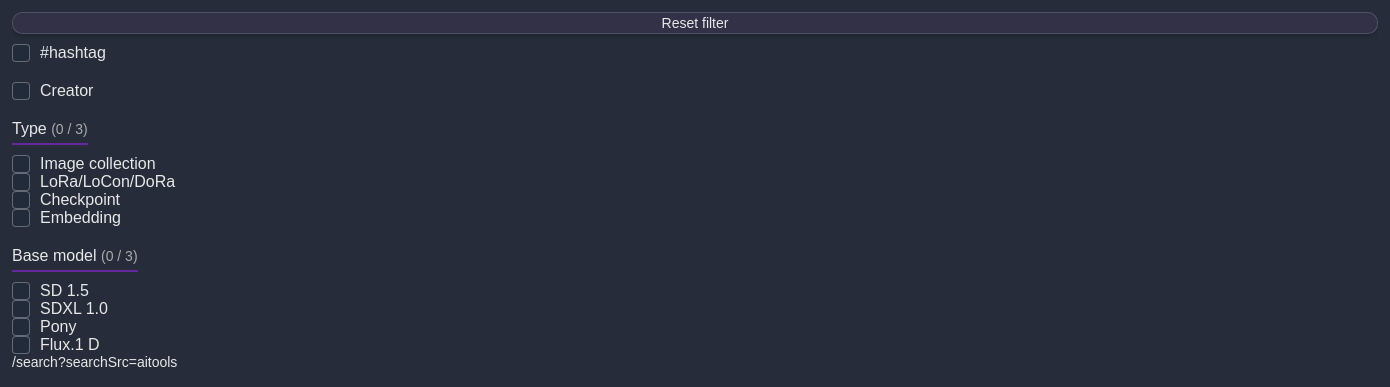
Test case: applies and releases cross-group selection limits while synchronizing base models
Click the checkbox labelled "Checkpoint" at (21, 200), box [12,191,30,209]
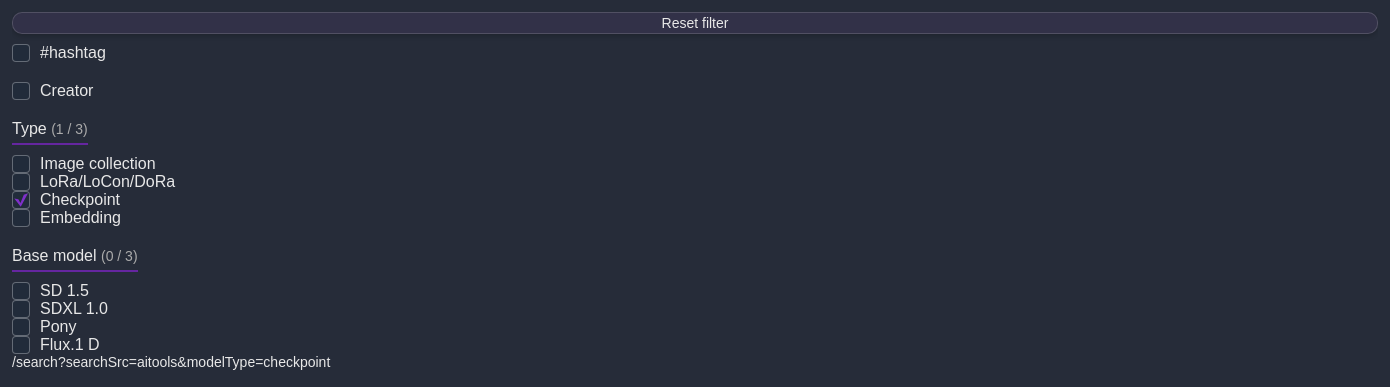
Click the checkbox labelled "LoRa/LoCon/DoRa" at (21, 182), box [12,173,30,191]
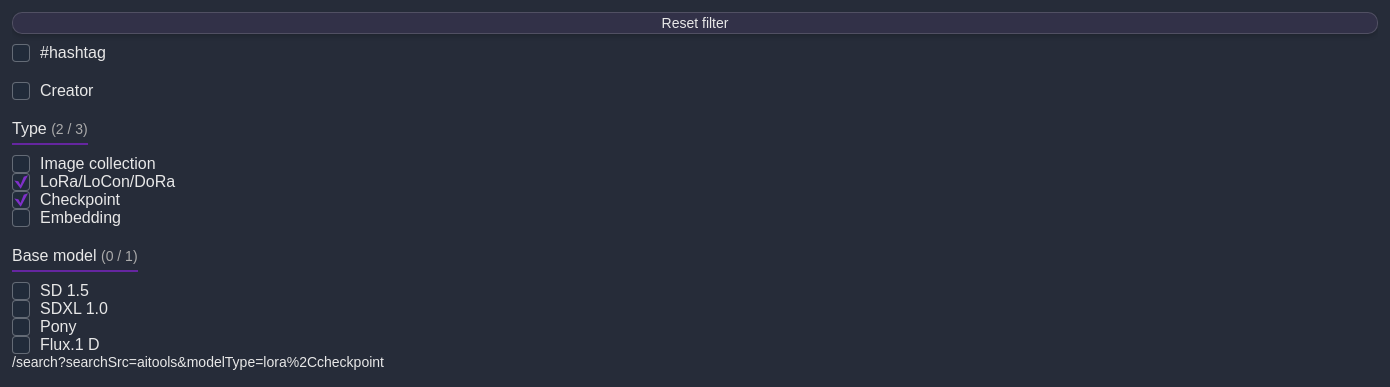
Click the checkbox labelled "SD 1.5" at (21, 291), box [12,282,30,300]
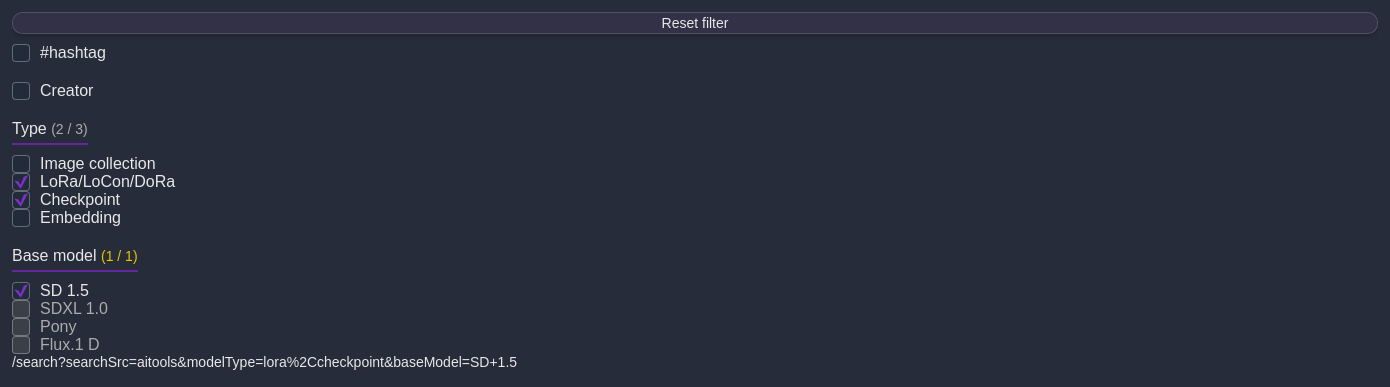
Expected: the label "SD 1.5" is shown, [12,282,89,300]
Now the checkbox labelled "SDXL 1.0" is disabled, box [12,300,30,318]
Click the checkbox labelled "LoRa/LoCon/DoRa" at (21, 182), box [12,173,30,191]
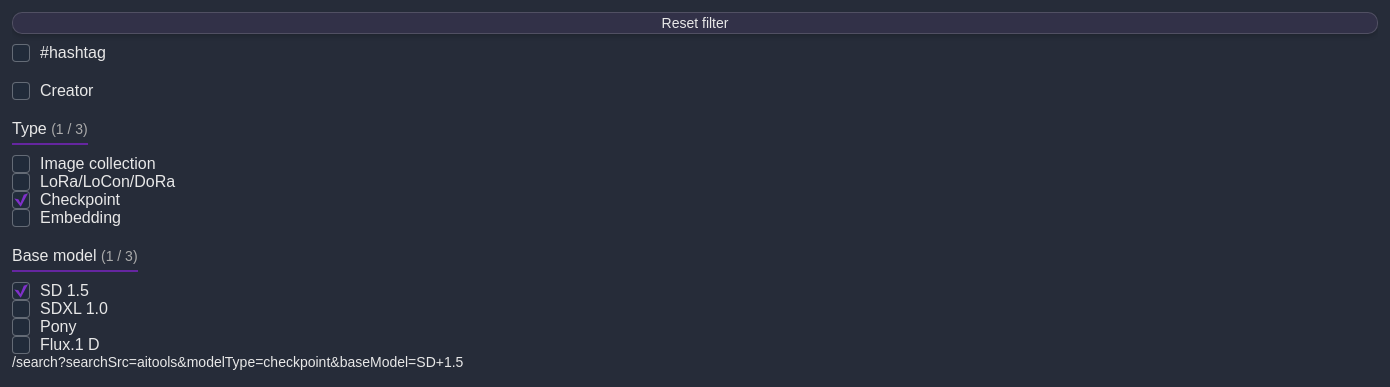
Now the checkbox labelled "SDXL 1.0" is enabled
Click the checkbox labelled "SDXL 1.0" at (21, 309), box [12,300,30,318]
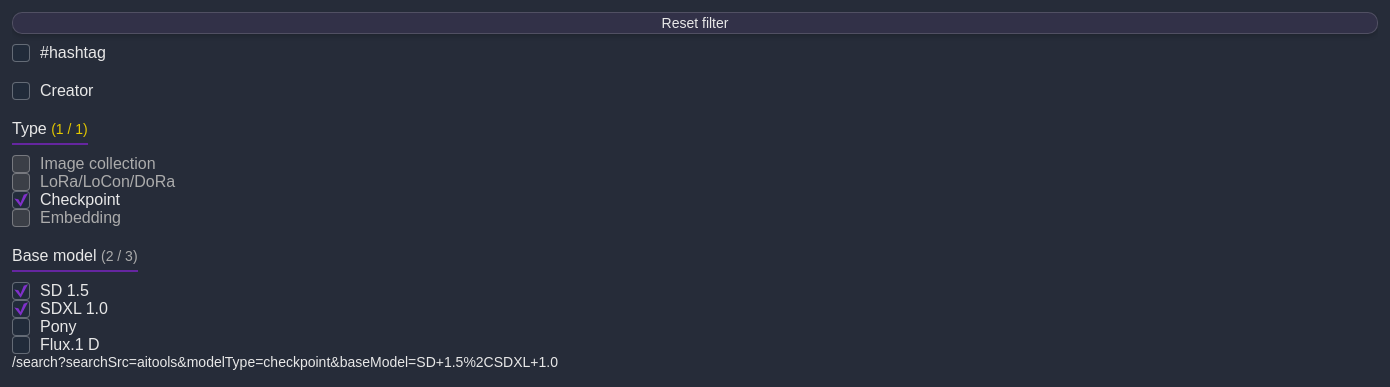
Expected: the checkbox labelled "Checkpoint" is enabled, [12,191,30,209]
Now the checkbox labelled "LoRa/LoCon/DoRa" is disabled, box [12,173,30,191]
Click the checkbox labelled "SDXL 1.0" at (21, 309), box [12,300,30,318]
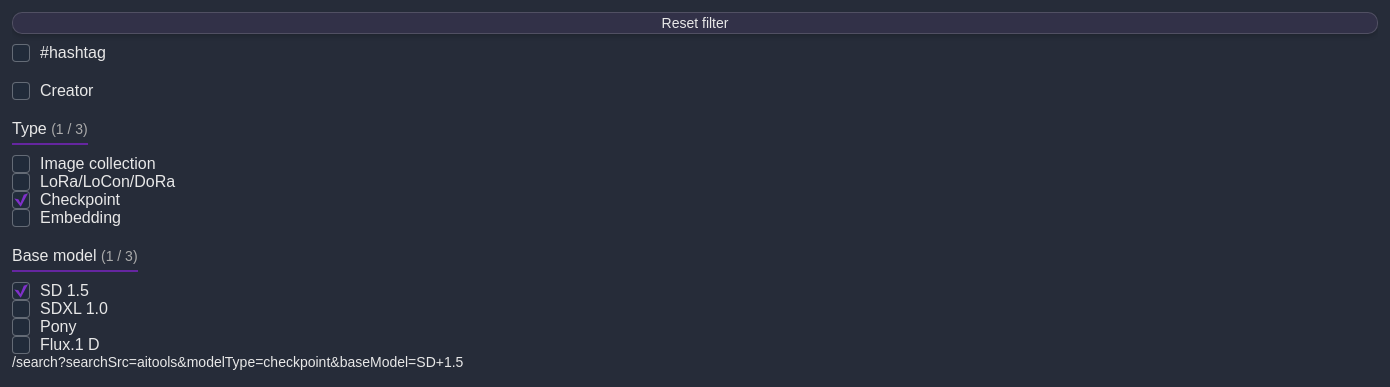
Now the checkbox labelled "LoRa/LoCon/DoRa" is enabled, box [12,173,30,191]
